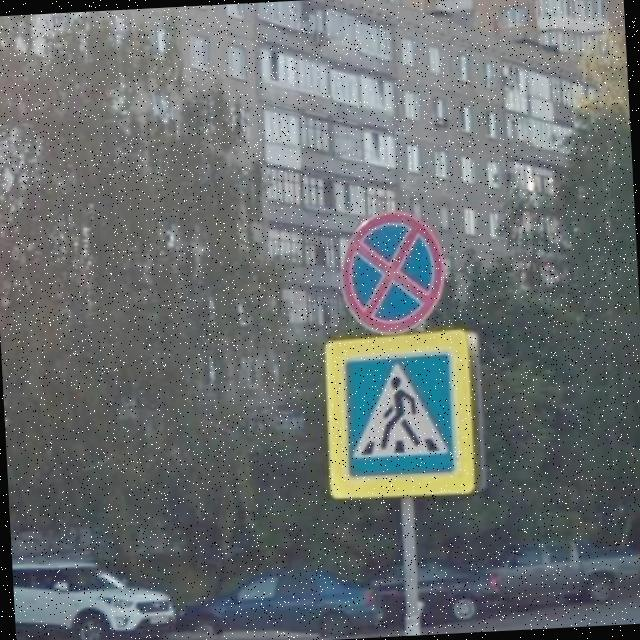Przejscie dla pieszych: (318, 324, 492, 502)
Zakaz zatrzymywania sie: (333, 204, 452, 340)
